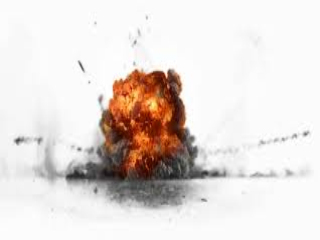fire: (106, 72, 186, 143)
smoke: (66, 145, 209, 181)
